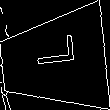L_W: (29, 43, 78, 79)
